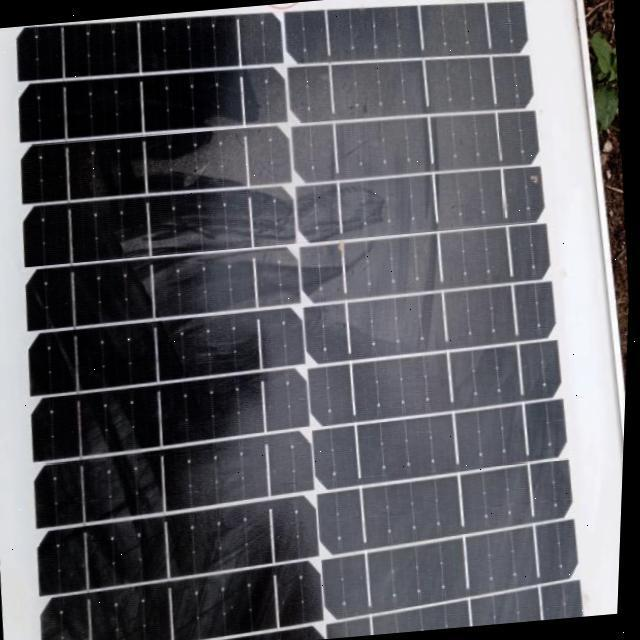Surface Contaminant: (4, 0, 555, 334)
